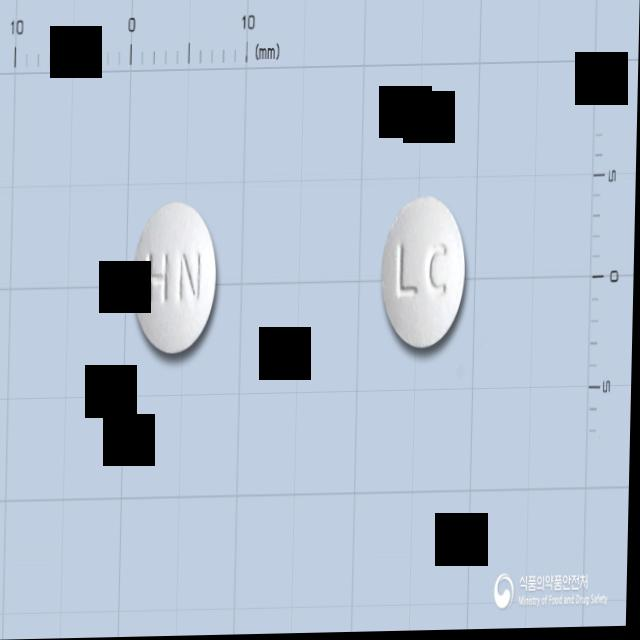Lenacin: (381, 195, 470, 351), (132, 201, 220, 356)
